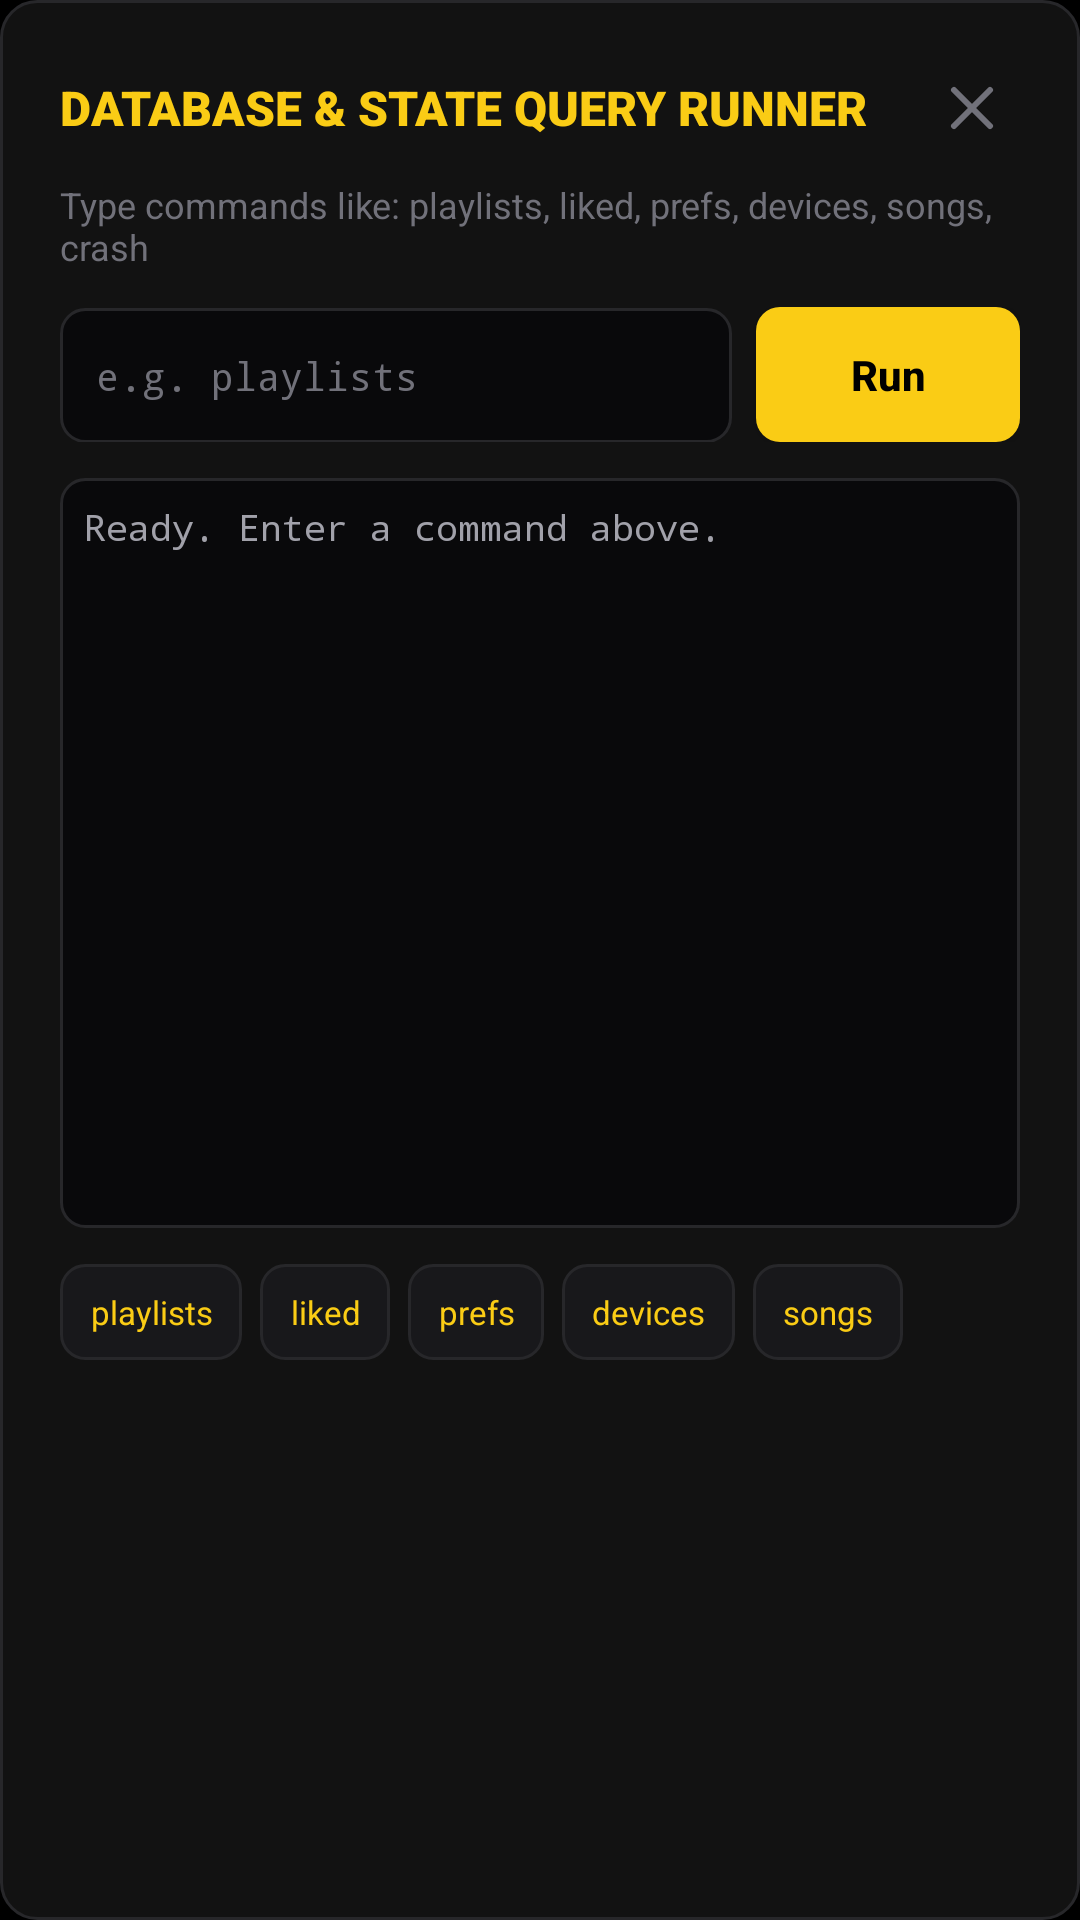

Where to tap for icons on this 1080px x 1920px app screen, as [x,y]:
Close: [972,108]
